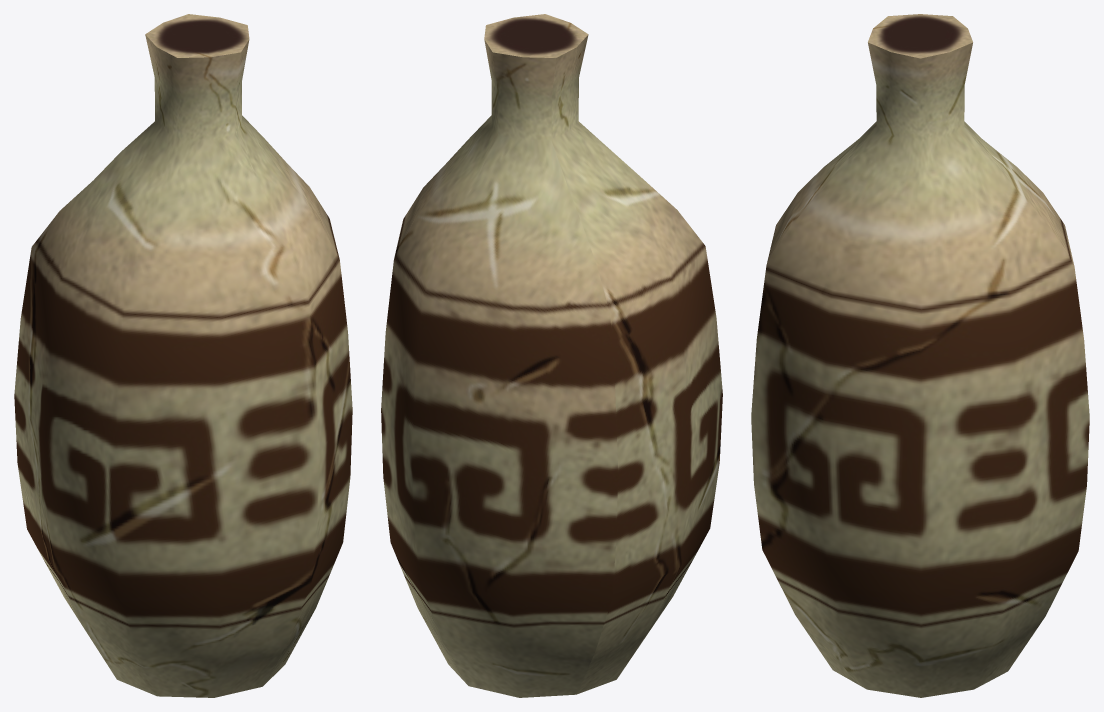
The model's file is modelBottle02.fbx.
3 views of the same model, side by side, from view 1: azimuth 30°, elevation 25°; view 2: azimuth 150°, elevation 25°; view 3: azimuth 270°, elevation 25° (orthographic).
Visible parts, largest first — view 1: modelBottle02; view 2: modelBottle02; view 3: modelBottle02.
Part boxes in pixels (bbox=[...]): modelBottle02: bbox=[14, 14, 352, 697]; modelBottle02: bbox=[381, 14, 722, 697]; modelBottle02: bbox=[751, 14, 1089, 697].
Size of the model in its own units: 3.97 by 8.05 by 3.89.
